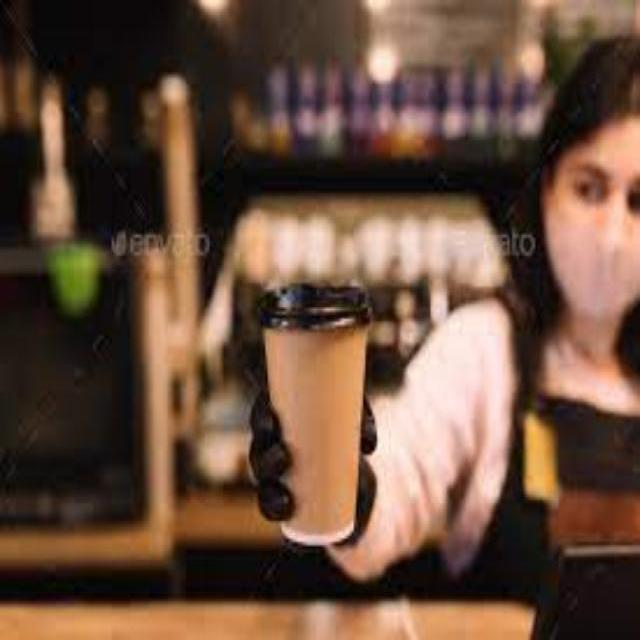gloved_hand: (240, 393, 288, 512)
